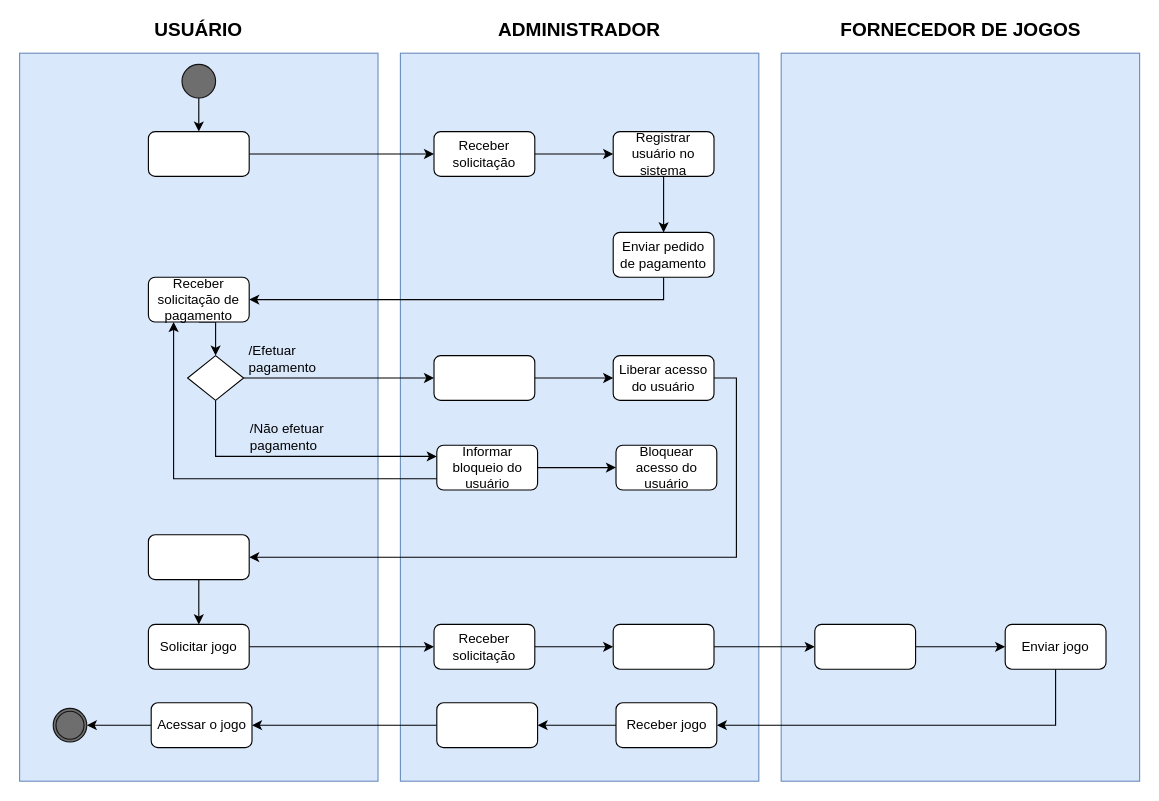
This 1159x801 diagram has some shape labels left out. The shapes that lost their labels are listed below. From the top down, each one's centre as x and y in pixels, then its label:
the point at 198,153: Solicitar registro
the point at 484,377: Receber pagamento
the point at 198,557: Acessar plataforma
the point at 663,646: Enviar a solicitação do jogo
the point at 865,646: Receber solicitação do jogo
the point at 487,725: Liberar acesso ao jogo
